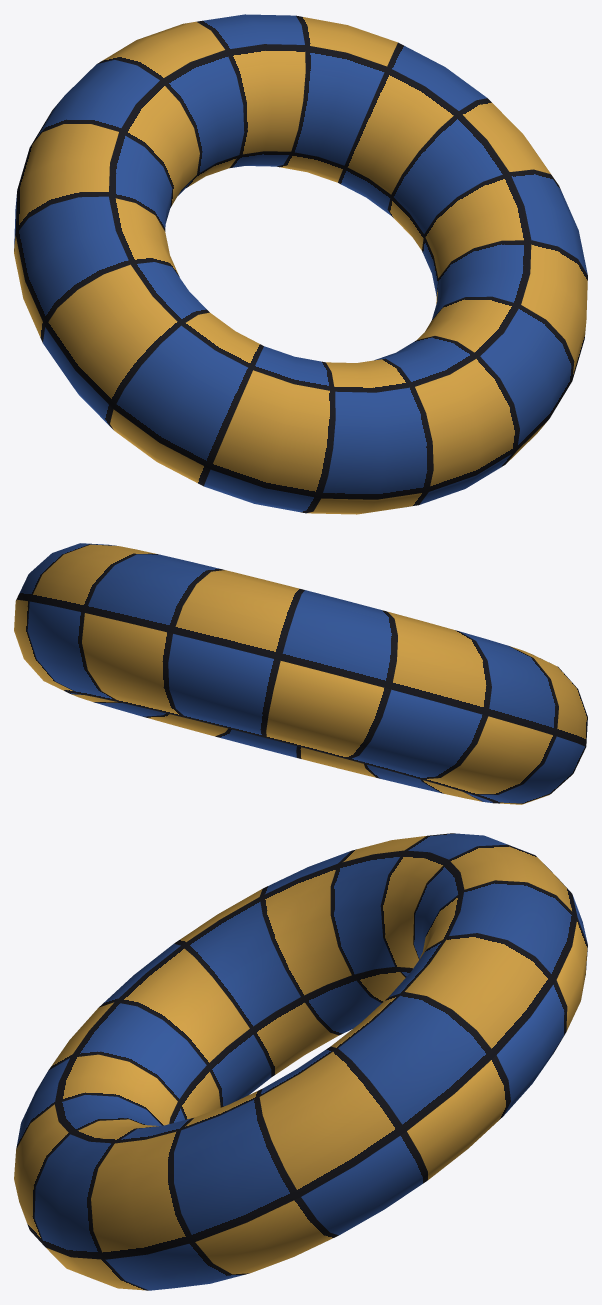
Rendered from showcase.gltf.
The picture shows the model from 3 angles, top to bottom: view 1: azimuth 30°, elevation 25°; view 2: azimuth 150°, elevation 25°; view 3: azimuth 270°, elevation 25°; orthographic projection. The views are drawn at different scales.
Parts seen in each view (by area): view 1: torus; view 2: torus; view 3: torus.
Part boxes in pixels (x1,y1,x2,y2): torus: (14,14,587,514); torus: (14,543,587,804); torus: (14,833,587,1290).
Size of what is drawn, in the model's own units: 2.7 by 1.69 by 2.43.
1 material, 1 textured.
